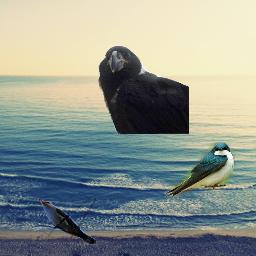Crow: (97, 45, 189, 134)
Cuckoo: (37, 198, 96, 244)
Swallow: (164, 142, 235, 197)
